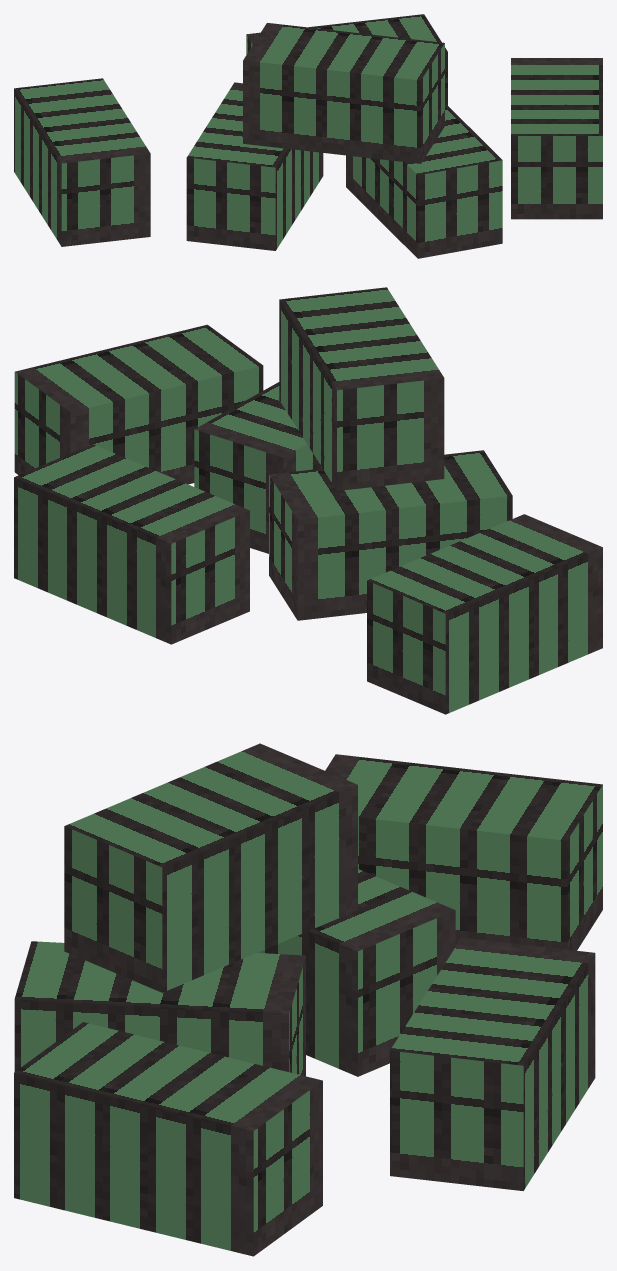
The model's file is detail_bricks_type_b.glb.
3 views of the same model, one above another, from view 1: azimuth 30°, elevation 25°; view 2: azimuth 150°, elevation 25°; view 3: azimuth 270°, elevation 25° (orthographic). The views are drawn at different scales.
Visible parts, largest first — view 1: detail-bricks-type-b; view 2: detail-bricks-type-b; view 3: detail-bricks-type-b.
Part boxes in pixels (box(x1,y1,x2,y2)): detail-bricks-type-b: box(14, 14, 602, 258); detail-bricks-type-b: box(14, 287, 602, 714); detail-bricks-type-b: box(14, 743, 602, 1256).
Size of the model in its own units: 0.6446 by 0.2 by 0.4257.
1 material, 1 textured.
